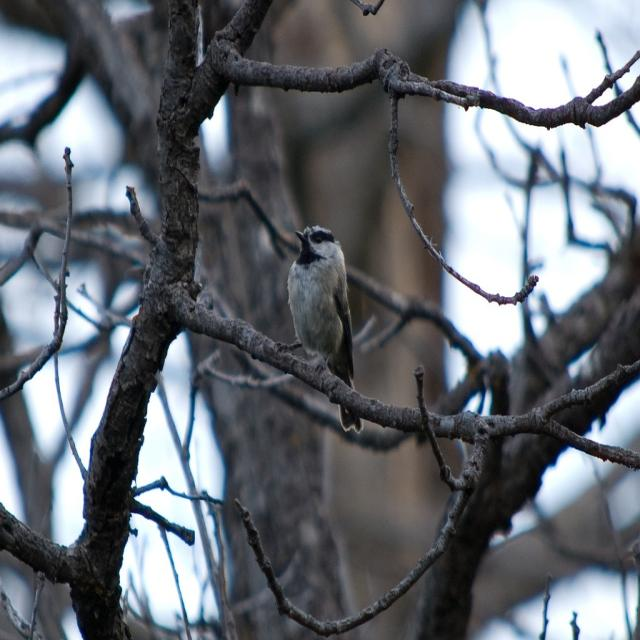bird: (284, 224, 368, 436)
